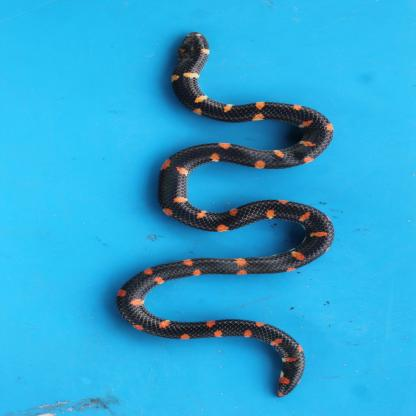Snake: (113, 26, 335, 398)
